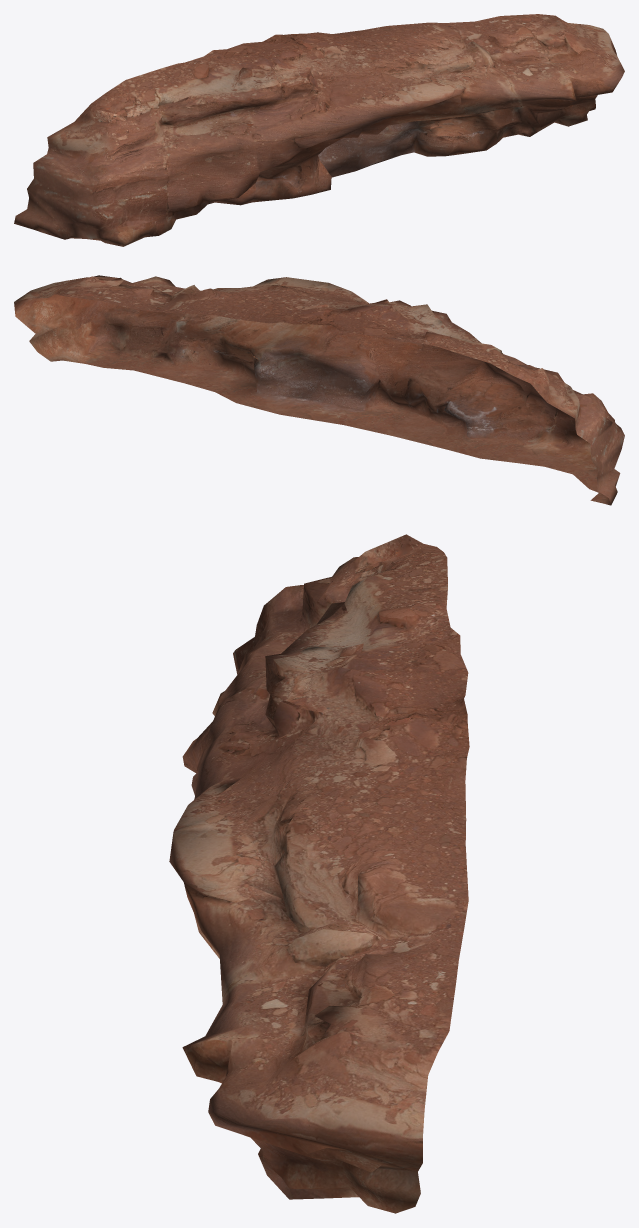
Rendered from desert_western_ledge_rock_medium_05_ventdee_low.glb.
The picture shows the model from 3 angles, top to bottom: view 1: azimuth 30°, elevation 25°; view 2: azimuth 150°, elevation 25°; view 3: azimuth 270°, elevation 25°; orthographic projection. The views are drawn at different scales.
Visible parts, largest first — view 1: ventdee_LOD0_TIER3_000; view 2: ventdee_LOD0_TIER3_000; view 3: ventdee_LOD0_TIER3_000.
Part boxes in pixels (x1,y1,x2,y2): ventdee_LOD0_TIER3_000: [14, 14, 624, 246]; ventdee_LOD0_TIER3_000: [14, 275, 624, 505]; ventdee_LOD0_TIER3_000: [169, 534, 469, 1213].
Bounding box in the file's own units: 3.33 × 0.6658 × 0.7386.
1 material, 1 textured.
